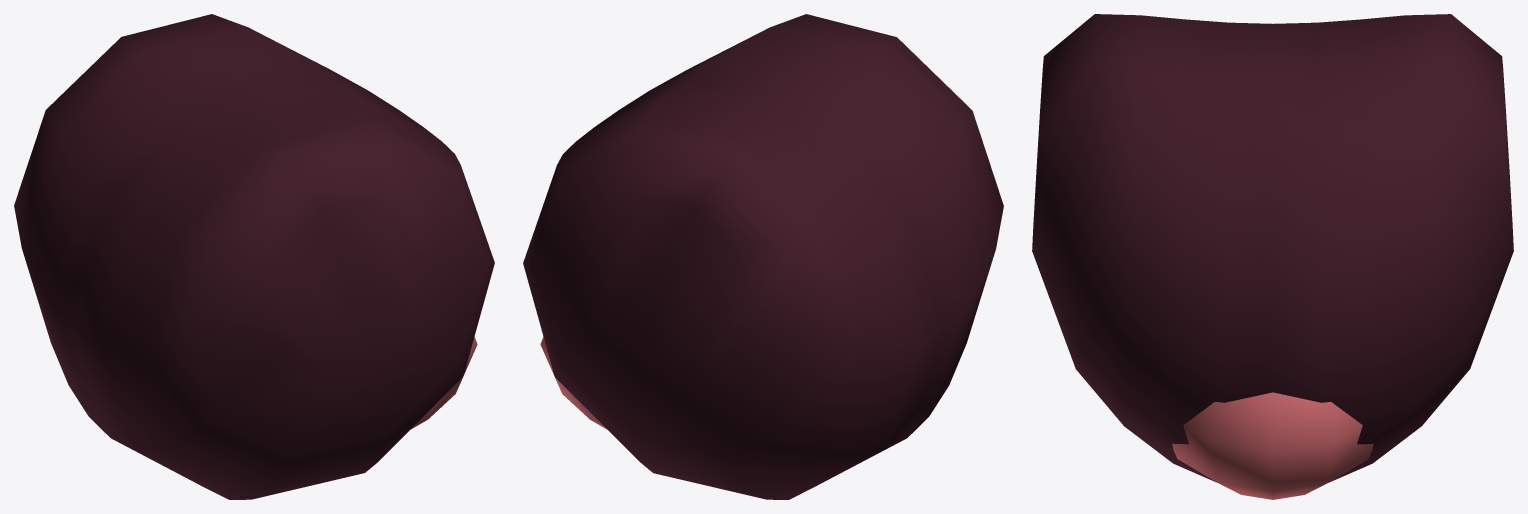
Rendered from SM_Crew_Mouth.fbx.
The picture shows the model from 3 angles, left to right: view 1: azimuth 30°, elevation 25°; view 2: azimuth 150°, elevation 25°; view 3: azimuth 270°, elevation 25°; orthographic projection. The views are drawn at different scales.
Visible parts, largest first — view 1: SM_Crew_Mouth; view 2: SM_Crew_Mouth; view 3: SM_Crew_Mouth.
Boxes of the visible parts, box(x1,y1,x2,y2) form: SM_Crew_Mouth: box(14, 14, 494, 499); SM_Crew_Mouth: box(523, 14, 1003, 499); SM_Crew_Mouth: box(1032, 14, 1513, 499).
Size of the model in its own units: 89.77 by 85.49 by 89.74.
